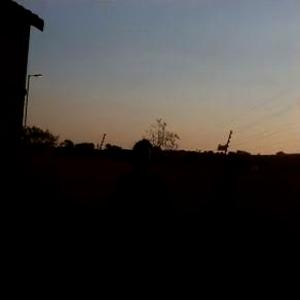follow: (103, 133, 170, 299)
